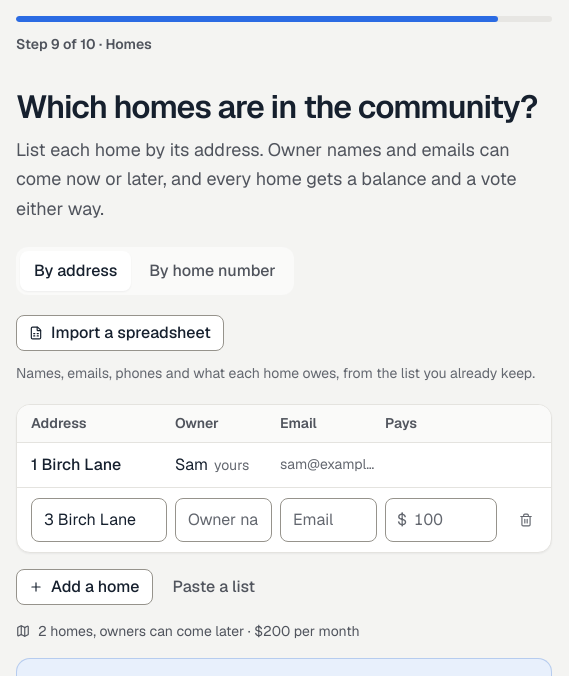
Test: the homes step, by home › gives each address row an optional amount
Type "125" into the number field named "Dues for home 1" at (441, 520), box left=385, top=498, right=497, bottom=542
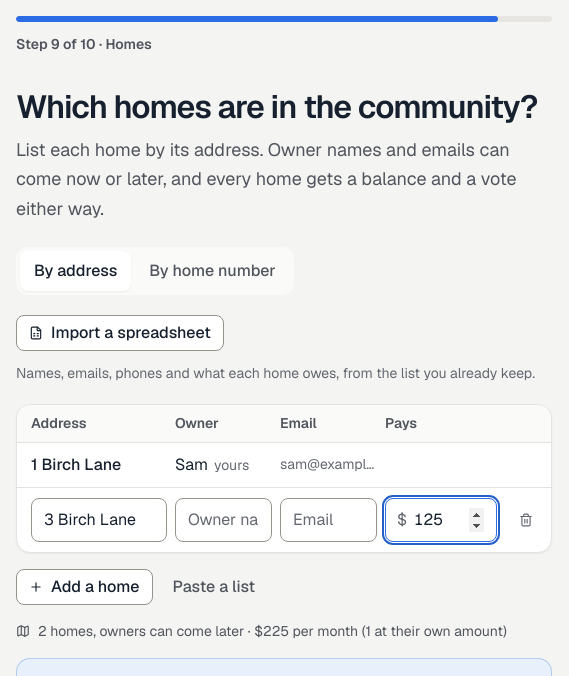
Result: the text "$225 per month" is shown at left=16, top=621, right=552, bottom=642
